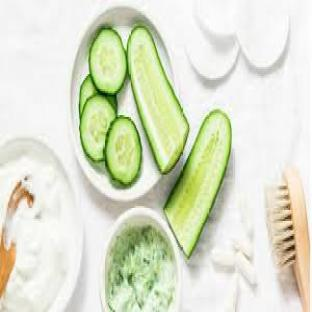Cucumber: (165, 110, 231, 258), (127, 26, 189, 172), (105, 116, 141, 185), (89, 28, 126, 94), (81, 95, 116, 161), (80, 75, 98, 116), (106, 95, 117, 111)
